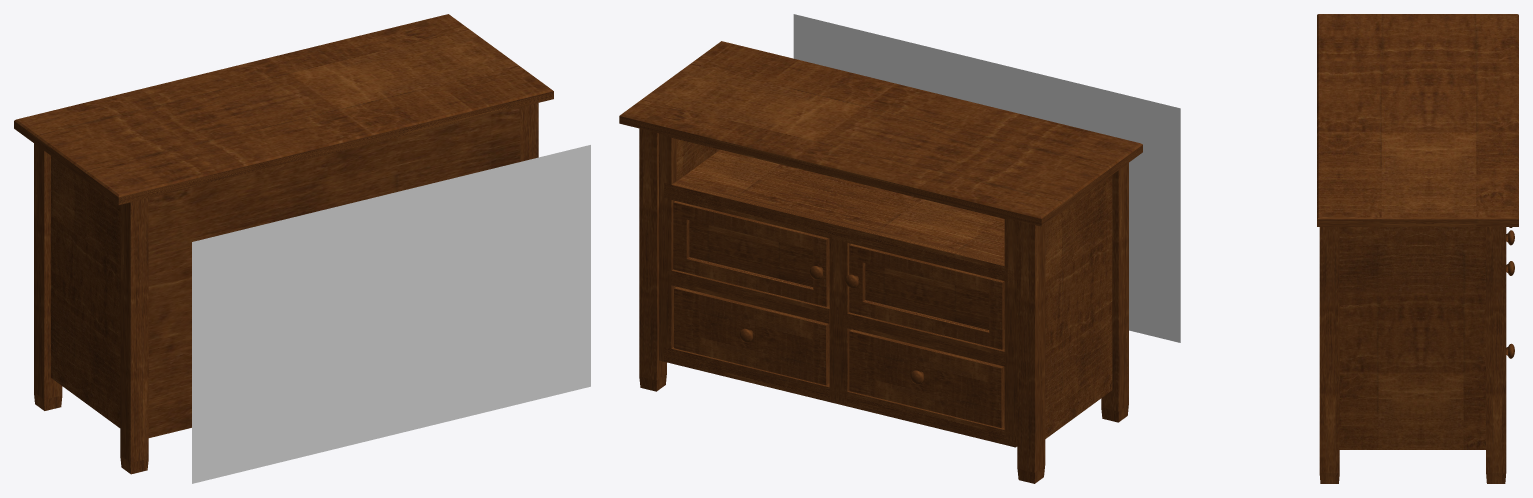
Rendered from OAW001255.glb.
The picture shows the model from 3 angles, left to right: view 1: azimuth 30°, elevation 25°; view 2: azimuth 150°, elevation 25°; view 3: azimuth 270°, elevation 25°; orthographic projection. The views are drawn at different scales.
Visible parts, largest first — view 1: Back Outside, Top, Back Inside, Sides, Legs; view 2: Top, Drawers and Doors, Back Outside, Front Frame Horizontal, Legs, Sides, Box Top Bottom, Front Frame Verticle, Door Panels, Knobs; view 3: Top, Sides, Legs, Knobs.
Part boxes in pixels (box(x1,y1,x2,y2)): Back Outside: box(192, 145, 590, 483); Top: box(14, 14, 553, 204); Back Inside: box(148, 107, 520, 437); Sides: box(51, 156, 120, 427); Legs: box(34, 103, 538, 474); Top: box(619, 41, 1142, 226); Drawers and Doors: box(673, 201, 1004, 427); Back Outside: box(793, 14, 1180, 342); Front Frame Horizontal: box(663, 134, 1016, 447); Legs: box(639, 128, 1128, 483); Sides: box(676, 139, 1112, 438); Box Top Bottom: box(673, 149, 1004, 280); Front Frame Verticle: box(659, 133, 1017, 446); Door Panels: box(689, 220, 989, 329); Knobs: box(739, 266, 923, 384); Top: box(1317, 14, 1518, 226); Sides: box(1339, 227, 1485, 449); Legs: box(1319, 227, 1506, 483); Knobs: box(1506, 227, 1514, 358).
Size of the model in its own units: 1.22 by 0.7586 by 0.7798.
Materials: 11 (10 with a texture image).
